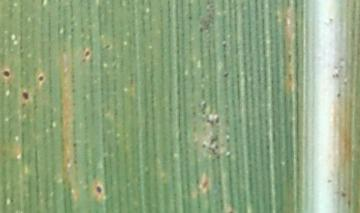tarspot: (91, 181, 106, 196), (199, 99, 208, 119), (82, 47, 94, 60), (20, 90, 32, 102), (35, 73, 47, 84), (1, 68, 12, 80), (102, 43, 116, 51), (325, 175, 334, 187), (214, 114, 223, 126), (326, 16, 334, 27), (330, 72, 342, 79), (222, 71, 231, 79), (335, 91, 343, 100), (220, 41, 228, 49), (341, 190, 348, 199), (199, 25, 206, 34), (187, 15, 194, 23)
